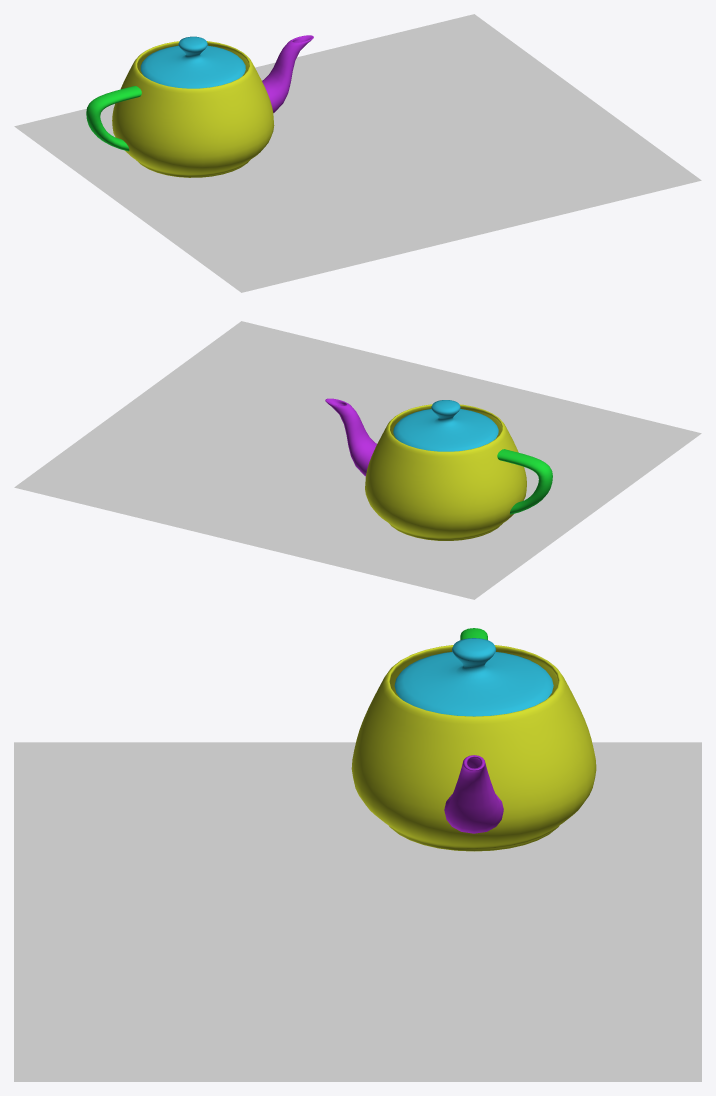
File: testPolyTeapot_342631_6664090_36N.FBX
3 renders of one model, top to bottom at view 1: azimuth 30°, elevation 25°; view 2: azimuth 150°, elevation 25°; view 3: azimuth 270°, elevation 25°, orthographic. The views are drawn at different scales.
Parts seen in each view (by area): view 1: test_poly, test_Teapot; view 2: test_poly, test_Teapot; view 3: test_poly, test_Teapot.
Boxes of the visible parts, <box> form: test_poly: <box>14,14,701,292</box>; test_Teapot: <box>86,35,313,177</box>; test_poly: <box>14,321,701,599</box>; test_Teapot: <box>325,398,552,540</box>; test_poly: <box>14,742,701,1081</box>; test_Teapot: <box>351,628,596,851</box>.
Size of the model in its own units: 5597 by 1338 by 4777.
